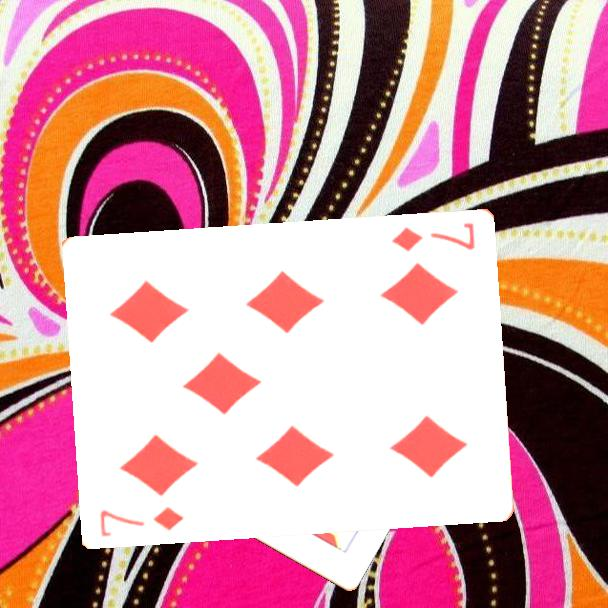d07: (95, 503, 186, 540), (388, 220, 477, 255)
